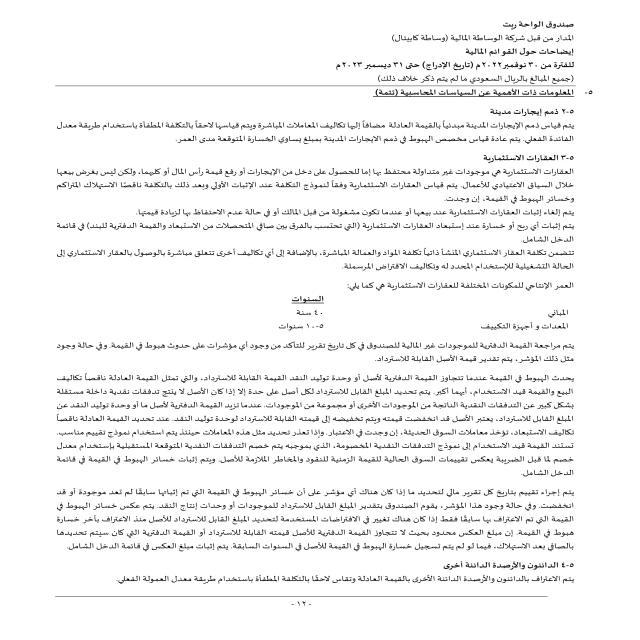notes: (445, 45, 577, 60)
text: (26, 83, 606, 590)
